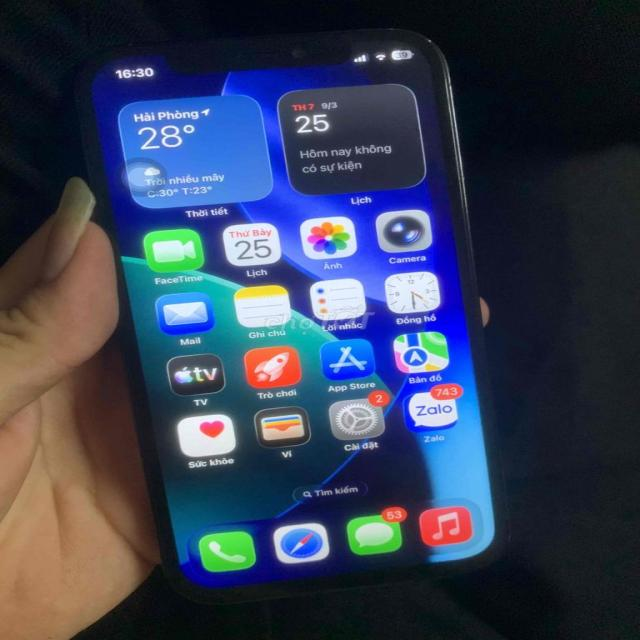gen_12_13: (55, 18, 523, 607)
